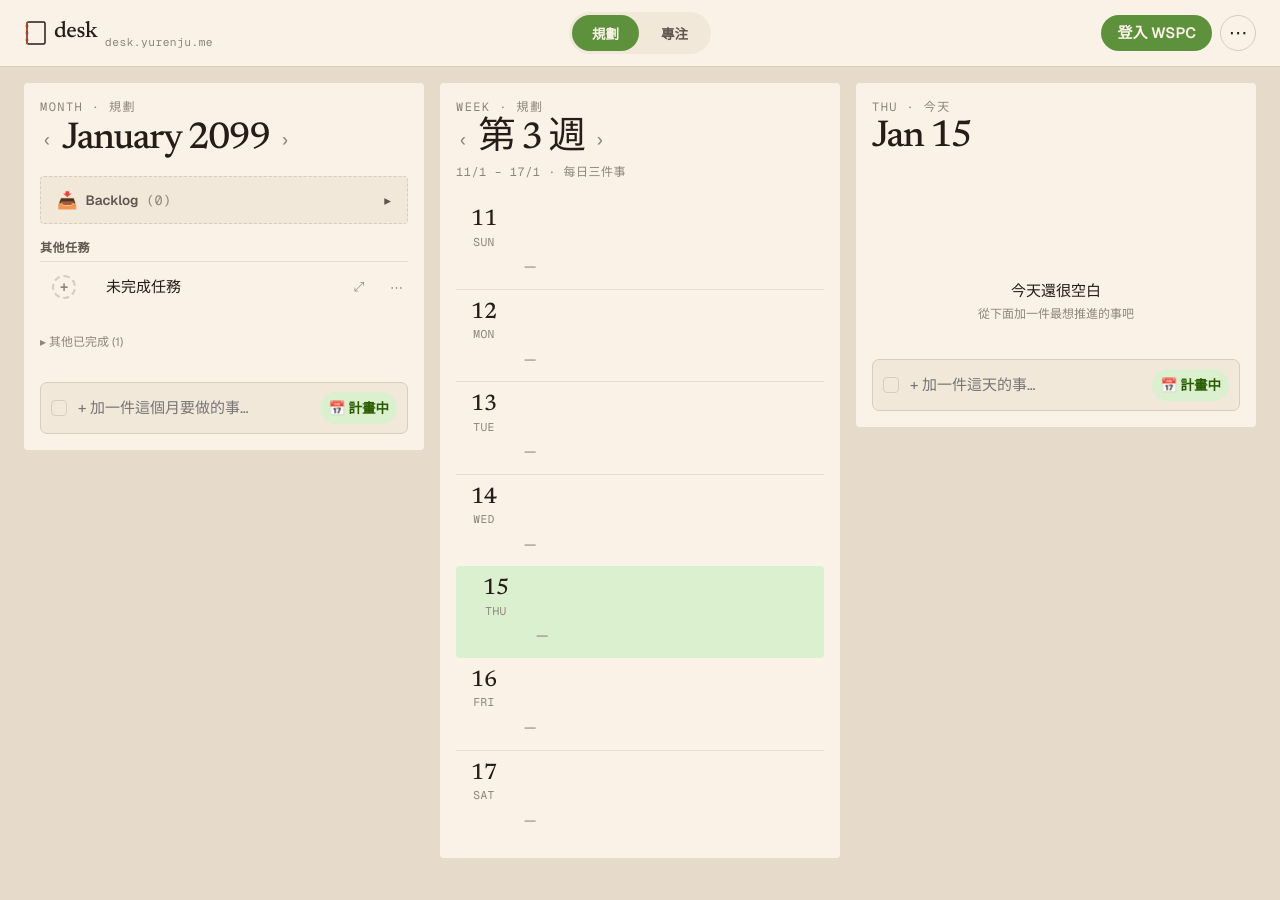
it: collapses completed tasks into a 已完成 group, expandable on click
Check: the text "未完成任務" is shown, box [106, 277, 181, 296]
Check: the text "已完成任務" is not shown
Click the button "▸ 其他已完成 (1)": (82, 341) [40, 324, 123, 358]
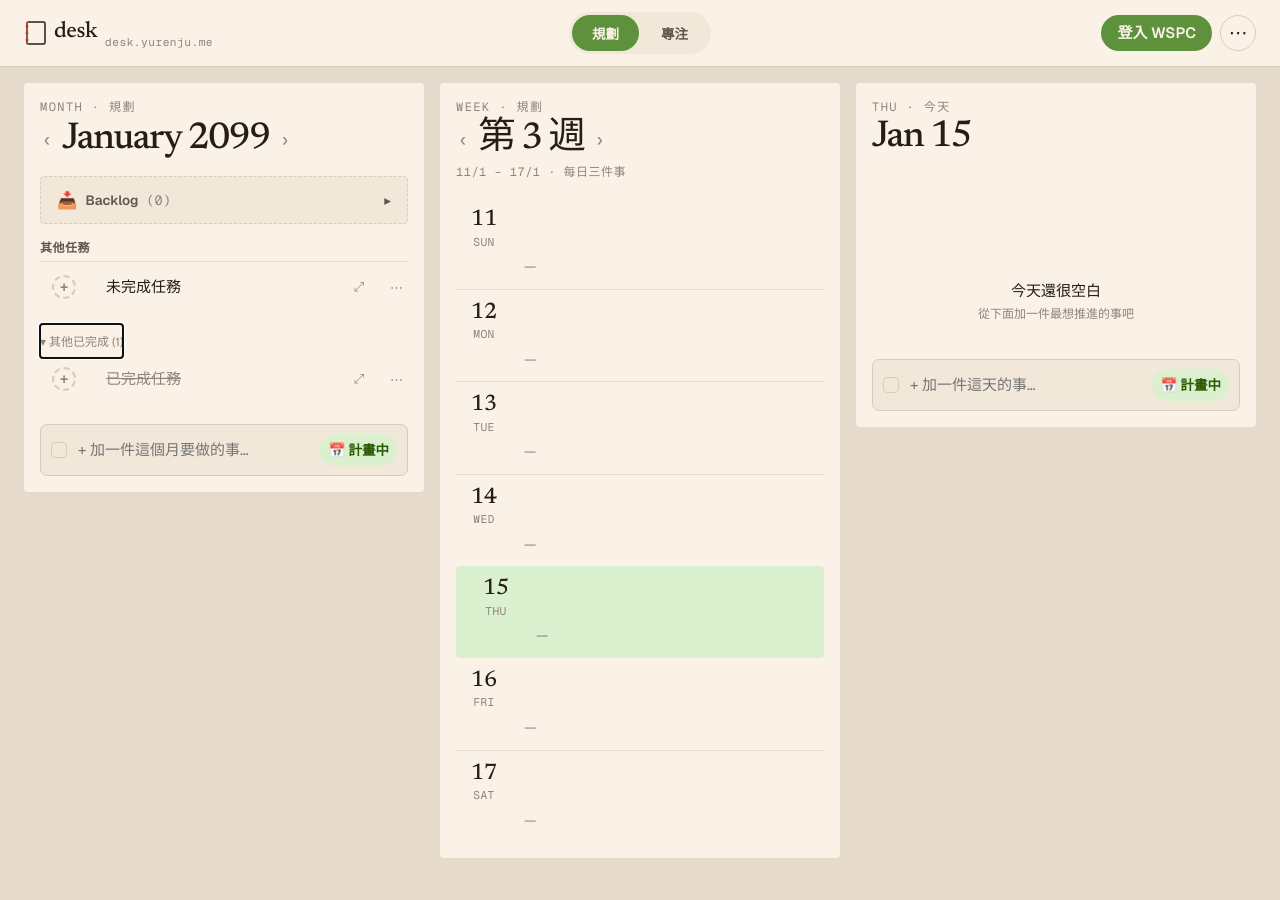
Check: the text "已完成任務" is shown, box [106, 369, 181, 388]
